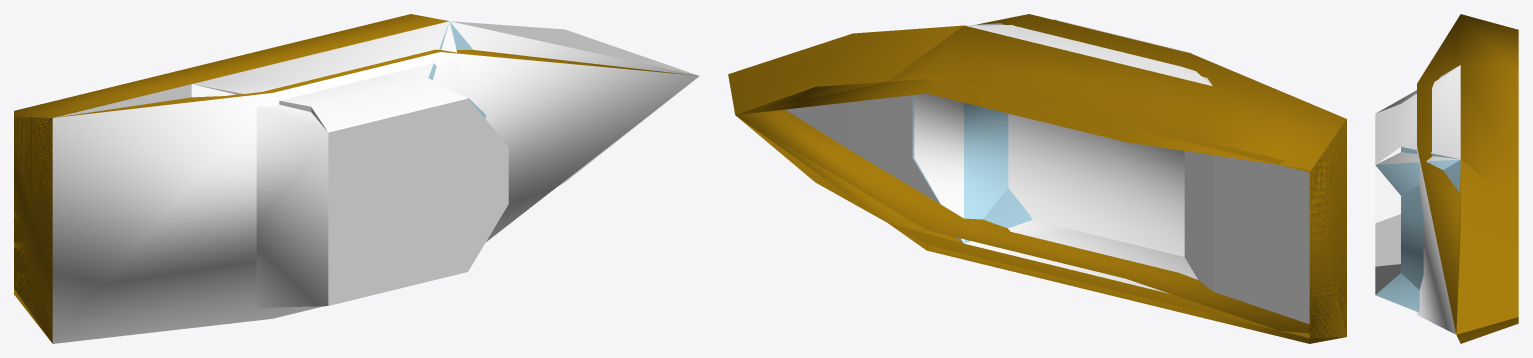
The model's file is boat.glb.
3 views of the same model, side by side, from view 1: azimuth 30°, elevation 25°; view 2: azimuth 150°, elevation 25°; view 3: azimuth 270°, elevation 25° (orthographic). The views are drawn at different scales.
Parts seen in each view (by area): view 1: MultiGe_rt2270_newLOD_LOD child0_O21_F2207_Geometry_0.001, MultiGe_rt2270_newLOD_LOD child0_O23_F2236_Geometry_0.001, MultiGe_rt2270_newLOD_LOD child0_O22_F2220_Geometry_0.001, MultiGe_rt2270_newLOD_LOD child0_O22_F2219_Geometry_0.001, MultiGe_rt2270_newLOD_LOD child0_O23_F889_Geometry_0.001, MultiGe_rt2270_newLOD_LOD child0_O21_F2205_Geometry_0.001; view 2: MultiGe_rt2270_newLOD_LOD child0_O22_F2219_Geometry_0.001, MultiGe_rt2270_newLOD_LOD child0_O23_F2236_Geometry_0.001, MultiGe_rt2270_newLOD_LOD child0_O21_F2205_Geometry_0.001, MultiGe_rt2270_newLOD_LOD child0_O23_F889_Geometry_0.001, MultiGe_rt2270_newLOD_LOD child0_O21_F2207_Geometry_0.001, MultiGe_rt2270_newLOD_LOD child0_O22_F2220_Geometry_0.001, MultiGe_rt2270_newLOD_LOD child0_O22_F2216_Geometry_0.001, MultiGe_rt2270_newLOD_LOD child0_O23_F2234_Geometry_0.001; view 3: MultiGe_rt2270_newLOD_LOD child0_O22_F2219_Geometry_0.001, MultiGe_rt2270_newLOD_LOD child0_O23_F889_Geometry_0.001, MultiGe_rt2270_newLOD_LOD child0_O23_F2236_Geometry_0.001, MultiGe_rt2270_newLOD_LOD child0_O21_F2205_Geometry_0.001, MultiGe_rt2270_newLOD_LOD child0_O21_F2207_Geometry_0.001, MultiGe_rt2270_newLOD_LOD child0_O23_F2234_Geometry_0.001, MultiGe_rt2270_newLOD_LOD child0_O22_F2216_Geometry_0.001, MultiGe_rt2270_newLOD_LOD child0_O22_F2220_Geometry_0.001.
Part boxes in pixels (bbox=[...]): MultiGe_rt2270_newLOD_LOD child0_O21_F2207_Geometry_0.001: bbox=[52, 52, 699, 343]; MultiGe_rt2270_newLOD_LOD child0_O23_F2236_Geometry_0.001: bbox=[55, 21, 697, 307]; MultiGe_rt2270_newLOD_LOD child0_O22_F2220_Geometry_0.001: bbox=[191, 21, 697, 307]; MultiGe_rt2270_newLOD_LOD child0_O22_F2219_Geometry_0.001: bbox=[14, 14, 448, 340]; MultiGe_rt2270_newLOD_LOD child0_O23_F889_Geometry_0.001: bbox=[14, 117, 52, 343]; MultiGe_rt2270_newLOD_LOD child0_O21_F2205_Geometry_0.001: bbox=[14, 49, 695, 335]; MultiGe_rt2270_newLOD_LOD child0_O22_F2219_Geometry_0.001: bbox=[736, 25, 1346, 343]; MultiGe_rt2270_newLOD_LOD child0_O23_F2236_Geometry_0.001: bbox=[785, 20, 1309, 324]; MultiGe_rt2270_newLOD_LOD child0_O21_F2205_Geometry_0.001: bbox=[735, 14, 1346, 340]; MultiGe_rt2270_newLOD_LOD child0_O23_F889_Geometry_0.001: bbox=[728, 25, 1346, 338]; MultiGe_rt2270_newLOD_LOD child0_O21_F2207_Geometry_0.001: bbox=[1008, 113, 1184, 256]; MultiGe_rt2270_newLOD_LOD child0_O22_F2220_Geometry_0.001: bbox=[914, 19, 1212, 293]; MultiGe_rt2270_newLOD_LOD child0_O22_F2216_Geometry_0.001: bbox=[964, 103, 1008, 242]; MultiGe_rt2270_newLOD_LOD child0_O23_F2234_Geometry_0.001: bbox=[912, 95, 1032, 243]; MultiGe_rt2270_newLOD_LOD child0_O22_F2219_Geometry_0.001: bbox=[1456, 14, 1518, 331]; MultiGe_rt2270_newLOD_LOD child0_O23_F889_Geometry_0.001: bbox=[1456, 160, 1518, 343]; MultiGe_rt2270_newLOD_LOD child0_O23_F2236_Geometry_0.001: bbox=[1375, 65, 1460, 294]; MultiGe_rt2270_newLOD_LOD child0_O21_F2205_Geometry_0.001: bbox=[1417, 14, 1460, 333]; MultiGe_rt2270_newLOD_LOD child0_O21_F2207_Geometry_0.001: bbox=[1417, 147, 1456, 334]; MultiGe_rt2270_newLOD_LOD child0_O23_F2234_Geometry_0.001: bbox=[1401, 147, 1460, 289]; MultiGe_rt2270_newLOD_LOD child0_O22_F2216_Geometry_0.001: bbox=[1375, 159, 1460, 312]; MultiGe_rt2270_newLOD_LOD child0_O22_F2220_Geometry_0.001: bbox=[1376, 65, 1459, 164].
Size of the model in its own units: 4.2 by 1.41 by 1.08.
